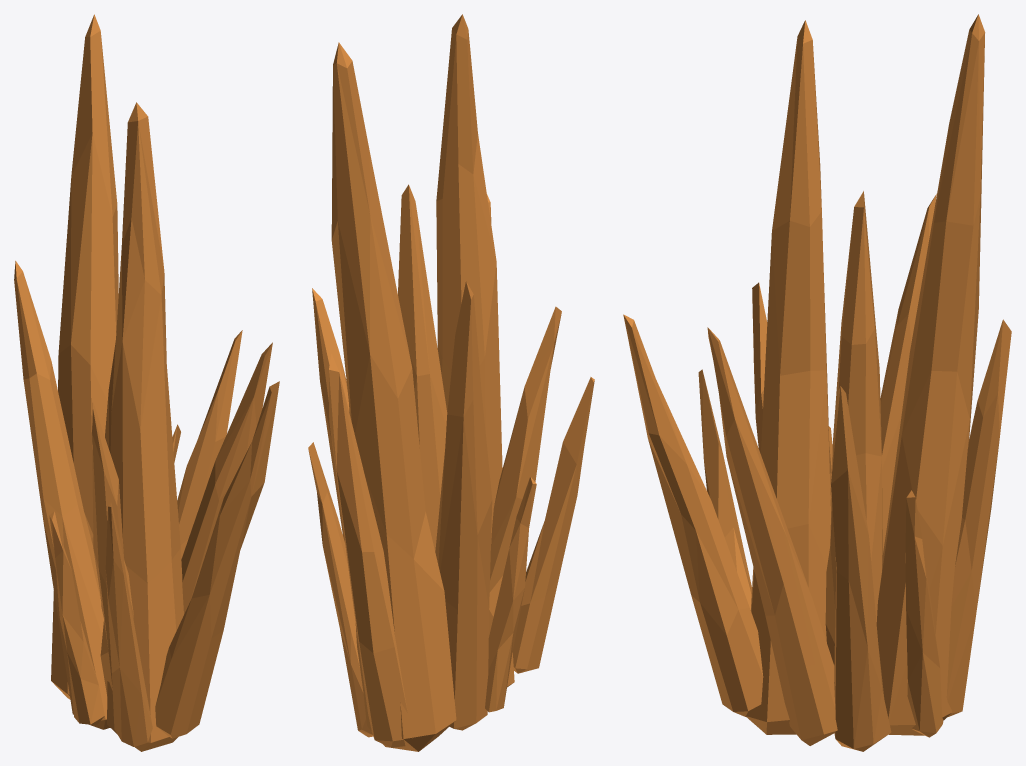
The model's file is coral2.fbx.
3 renders of one model, left to right at view 1: azimuth 30°, elevation 25°; view 2: azimuth 150°, elevation 25°; view 3: azimuth 270°, elevation 25°, orthographic. The views are drawn at different scales.
Parts seen in each view (by area): view 1: Acropora grandis; view 2: Acropora grandis; view 3: Acropora grandis.
Boxes of the visible parts, bbox=[...] form: Acropora grandis: bbox=[14, 14, 279, 751]; Acropora grandis: bbox=[308, 14, 594, 751]; Acropora grandis: bbox=[623, 14, 1011, 751].
Bounding box in the file's own units: 30.3 × 96.07 × 46.15.
